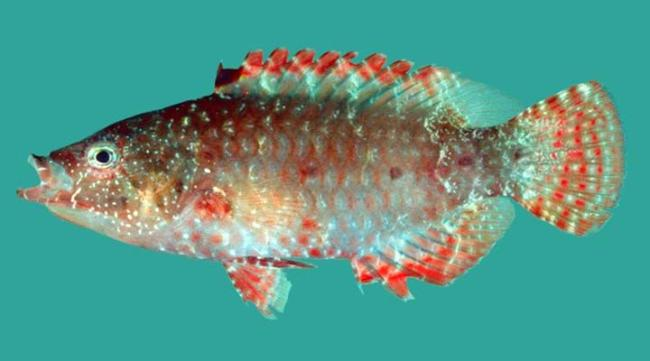fish: (18, 47, 626, 319)
